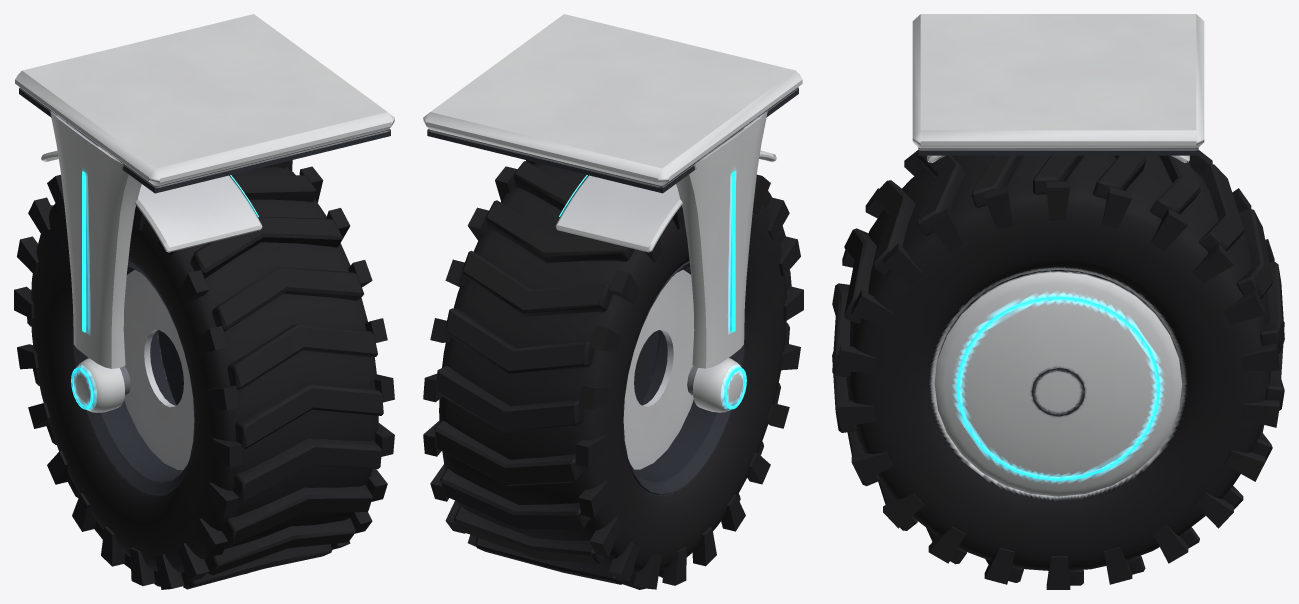
Rendered from R4M_Wheel.glb.
3 views of the same model, side by side, from view 1: azimuth 30°, elevation 25°; view 2: azimuth 150°, elevation 25°; view 3: azimuth 270°, elevation 25° (orthographic). The views are drawn at different scales.
Visible parts, largest first — view 1: R4M_Wheel_Rotor, R4M_Wheel_Mount; view 2: R4M_Wheel_Rotor, R4M_Wheel_Mount; view 3: R4M_Wheel_Rotor, R4M_Wheel_Mount.
Part boxes in pixels (bbox=[...]): R4M_Wheel_Rotor: bbox=[14, 160, 394, 589]; R4M_Wheel_Mount: bbox=[15, 14, 394, 412]; R4M_Wheel_Rotor: bbox=[423, 160, 803, 589]; R4M_Wheel_Mount: bbox=[423, 14, 802, 412]; R4M_Wheel_Rotor: bbox=[832, 150, 1284, 589]; R4M_Wheel_Mount: bbox=[912, 14, 1204, 162].
Bounding box in the file's own units: 0.5005 × 0.906 × 0.7755.
1 material, 1 textured.
